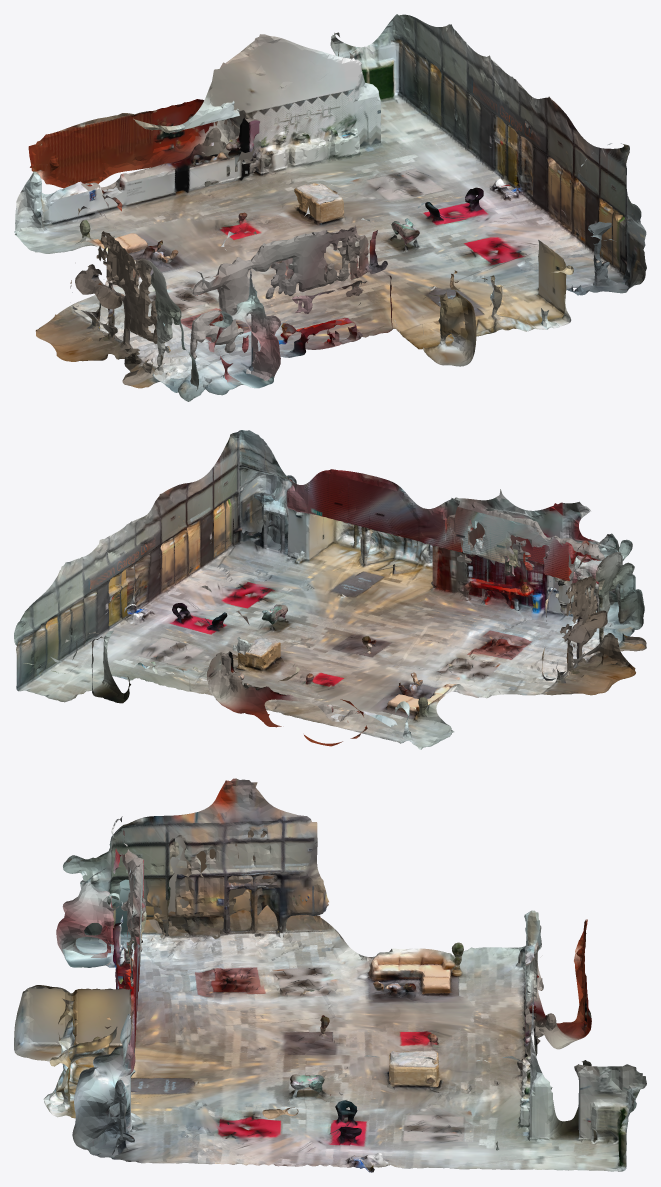
The picture shows the model from 3 angles, top to bottom: view 1: azimuth 30°, elevation 25°; view 2: azimuth 150°, elevation 25°; view 3: azimuth 270°, elevation 25°; orthographic projection. The views are drawn at different scales.
Size of the model in its own units: 26.22 by 7.1 by 25.9.
Materials: 1 (1 with a texture image).
